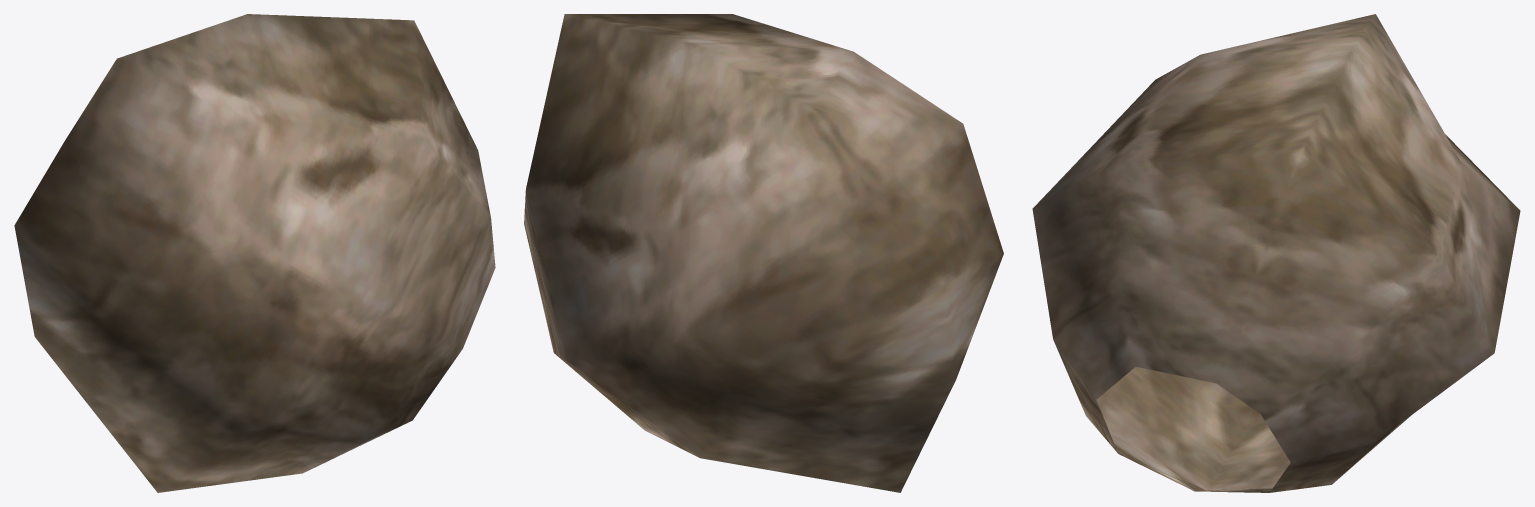
File: OVERHILL_A_01_ROCK90.fbx
3 views of the same model, side by side, from view 1: azimuth 30°, elevation 25°; view 2: azimuth 150°, elevation 25°; view 3: azimuth 270°, elevation 25° (orthographic). The views are drawn at different scales.
Parts seen in each view (by area): view 1: OVERHILL_A_01_ROCK90; view 2: OVERHILL_A_01_ROCK90; view 3: OVERHILL_A_01_ROCK90.
Boxes of the visible parts, x1,y1,x2,y2 form: OVERHILL_A_01_ROCK90: (14, 14, 495, 492); OVERHILL_A_01_ROCK90: (524, 14, 1003, 492); OVERHILL_A_01_ROCK90: (1032, 14, 1520, 492).
Bounding box in the file's own units: 6402 × 6098 × 6057.
Materials: 1 (1 with a texture image).
